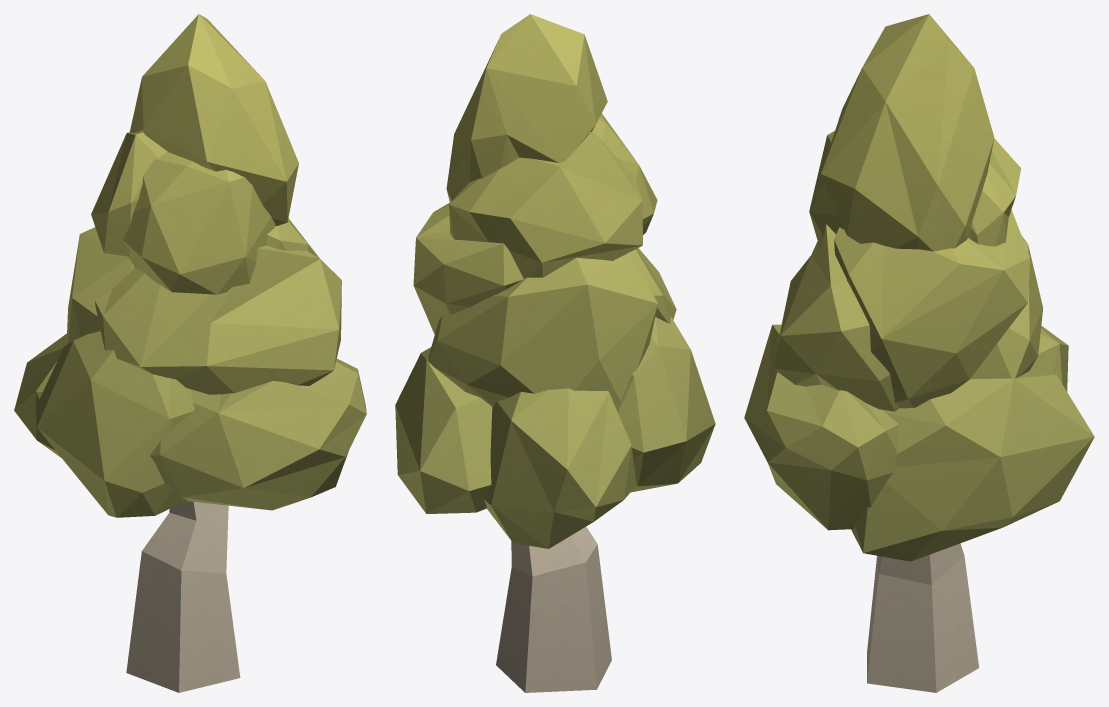
File: Tree_birch.obj
The picture shows the model from 3 angles, left to right: view 1: azimuth 30°, elevation 25°; view 2: azimuth 150°, elevation 25°; view 3: azimuth 270°, elevation 25°; orthographic projection. The views are drawn at different scales.
Parts seen in each view (by area): view 1: Tree_birch; view 2: Tree_birch; view 3: Tree_birch.
Boxes of the visible parts, box(x1,y1,x2,y2) form: Tree_birch: box(14, 14, 366, 692); Tree_birch: box(395, 14, 715, 692); Tree_birch: box(744, 14, 1094, 692).
Size of the model in its own units: 4.14 by 9.03 by 4.32.
